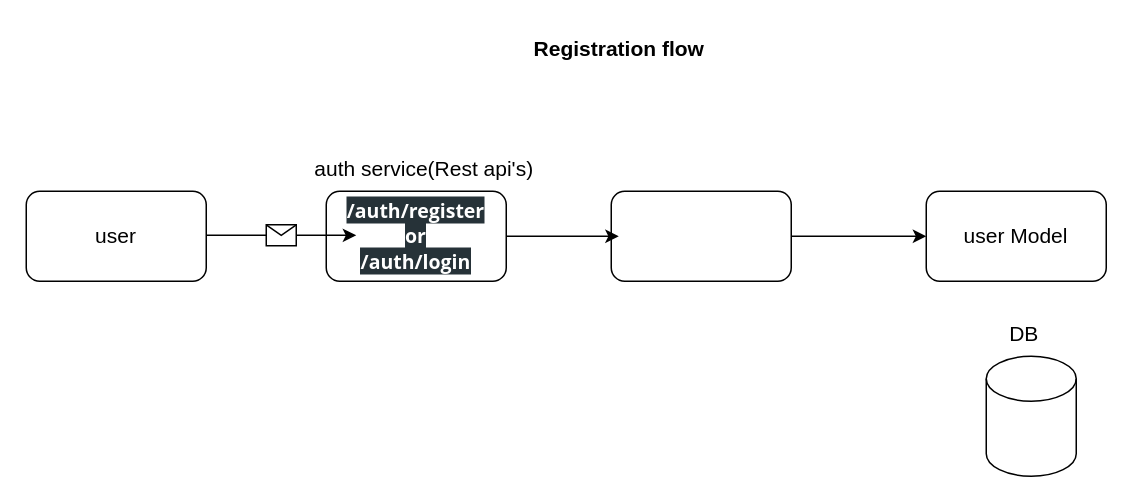
Some shapes in this 1133 by 503 pixel diagram are drawn without their labels. Here are the shapes that lost their labels. From the top down, the centre of each, then its label:
At point 700,235: "register".
At point 1030,415: "users".
